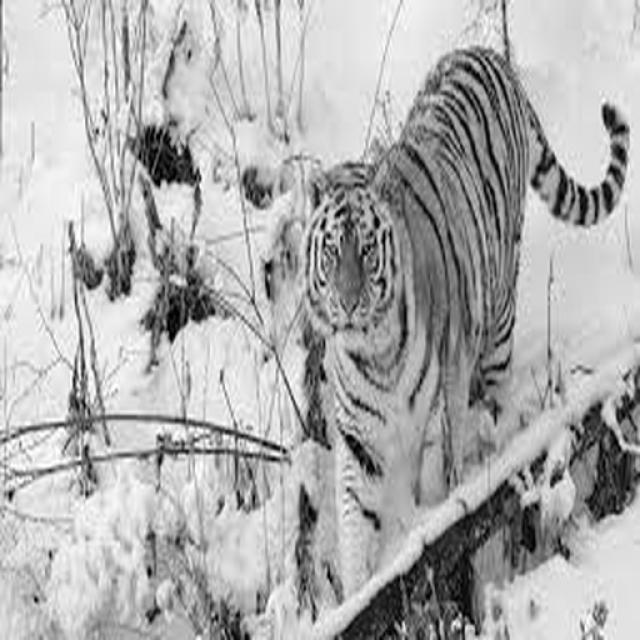Tiger: (295, 30, 633, 635)
